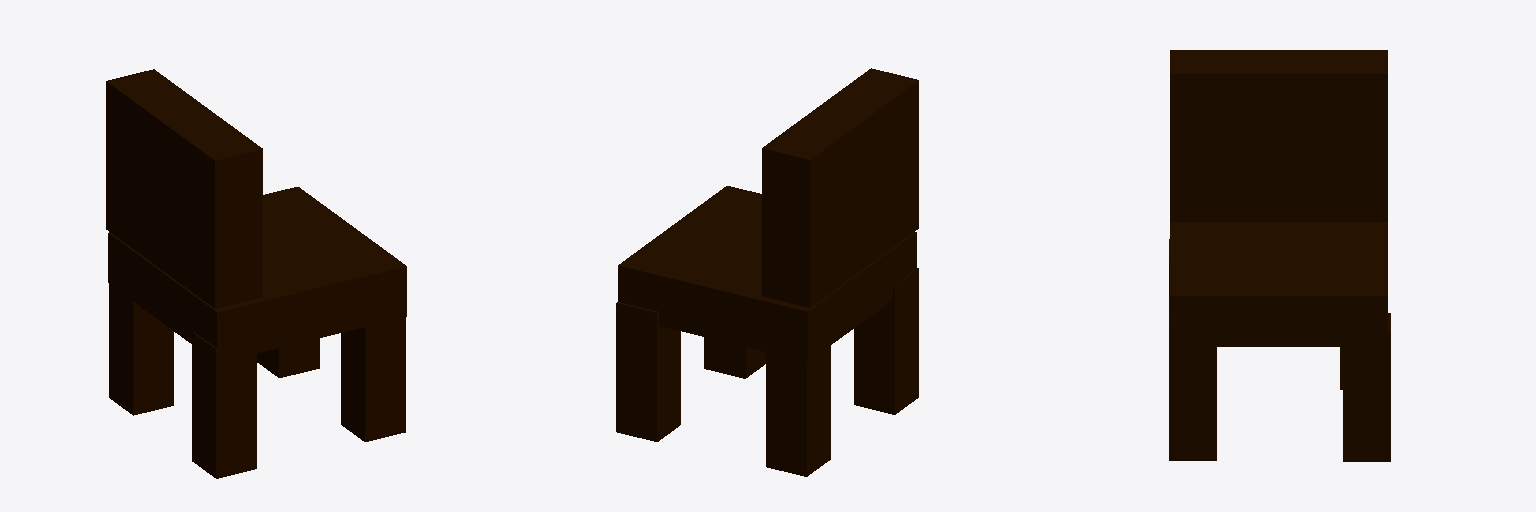
The model's file is szek.obj.
The picture shows the model from 3 angles: view 1: azimuth 30°, elevation 25°; view 2: azimuth 150°, elevation 25°; view 3: azimuth 270°, elevation 25°; orthographic projection.
Visible parts, largest first — view 1: szek; view 2: szek; view 3: szek.
Part boxes in pixels (left/top/right/bottom): szek: left=106, top=69, right=406, bottom=478; szek: left=616, top=68, right=918, bottom=476; szek: left=1169, top=50, right=1390, bottom=461.
Size of the model in its own units: 36.88 by 58.3 by 36.99.